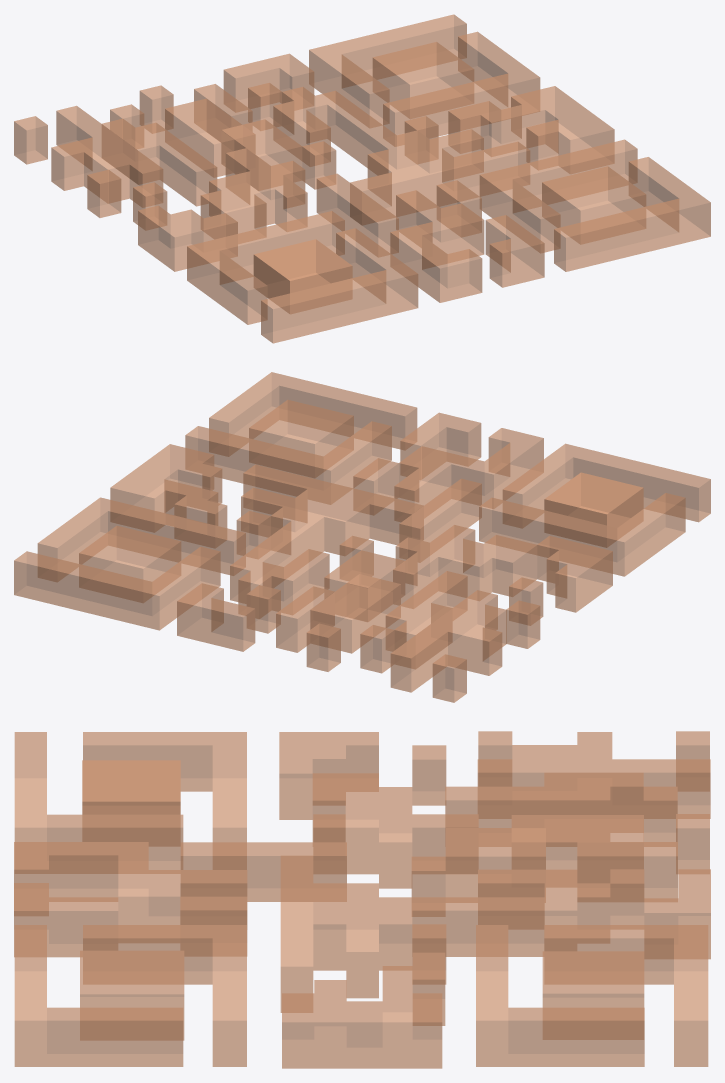
3 views of the same model, one above another, from view 1: azimuth 30°, elevation 25°; view 2: azimuth 150°, elevation 25°; view 3: azimuth 270°, elevation 25° (orthographic). The views are drawn at different scales.
Parts seen in each view (by area): view 1: Cube.006, Cube.005, Cube.010, Cube.004, Cube.027, Cube.003, Cube.008, Cube.013, Cube.001, Cube, Cube.024, Cube.025 (+16 smaller); view 2: Cube.005, Cube.006, Cube.010, Cube.004, Cube.027, Cube.003, Cube.008, Cube.013, Cube.001, Cube, Cube.025, Cube.024 (+16 smaller); view 3: Cube.010, Cube.006, Cube.005, Cube.027, Cube.004, Cube.008, Cube.013, Cube.003, Cube.011, Cube.001, Cube, Cube.025 (+16 smaller).
Part boxes in pixels (left/top/right/bottom): Cube.006: left=479, top=139, right=710, bottom=271; Cube.005: left=309, top=14, right=540, bottom=146; Cube.010: left=273, top=87, right=530, bottom=224; Cube.004: left=187, top=211, right=418, bottom=343; Cube.027: left=102, top=118, right=307, bottom=243; Cube.003: left=448, top=86, right=614, bottom=173; Cube.008: left=390, top=190, right=484, bottom=302; Cube.013: left=51, top=105, right=163, bottom=207; Cube.001: left=542, top=166, right=646, bottom=244; Cube: left=372, top=42, right=474, bottom=118; Cube.024: left=138, top=205, right=237, bottom=271; Cube.025: left=165, top=98, right=255, bottom=177; Cube.005: left=14, top=497, right=245, bottom=630; Cube.006: left=185, top=372, right=417, bottom=504; Cube.010: left=230, top=464, right=423, bottom=618; Cube.004: left=479, top=443, right=710, bottom=576; Cube.027: left=385, top=525, right=537, bottom=668; Cube.003: left=110, top=444, right=227, bottom=547; Cube.008: left=394, top=428, right=543, bottom=521; Cube.013: left=390, top=590, right=506, bottom=692; Cube.001: left=249, top=399, right=353, bottom=477; Cube: left=79, top=525, right=181, bottom=602; Cube.025: left=310, top=574, right=400, bottom=653; Cube.024: left=537, top=535, right=612, bottom=612; Cube.010: left=280, top=855, right=610, bottom=1012; Cube.006: left=14, top=925, right=246, bottom=1066; Cube.005: left=476, top=925, right=708, bottom=1066; Cube.027: left=312, top=772, right=643, bottom=888; Cube.004: left=14, top=732, right=246, bottom=873; Cube.008: left=14, top=842, right=247, bottom=942; Cube.013: left=477, top=732, right=710, bottom=818; Cube.003: left=282, top=952, right=445, bottom=1068; Cube.011: left=180, top=842, right=346, bottom=901; Cube.001: left=80, top=950, right=184, bottom=1040; Cube: left=542, top=951, right=644, bottom=1039; Cube.025: left=511, top=815, right=643, bottom=886.
Bounding box in the file's own units: 7.61 × 0.5678 × 7.69.
